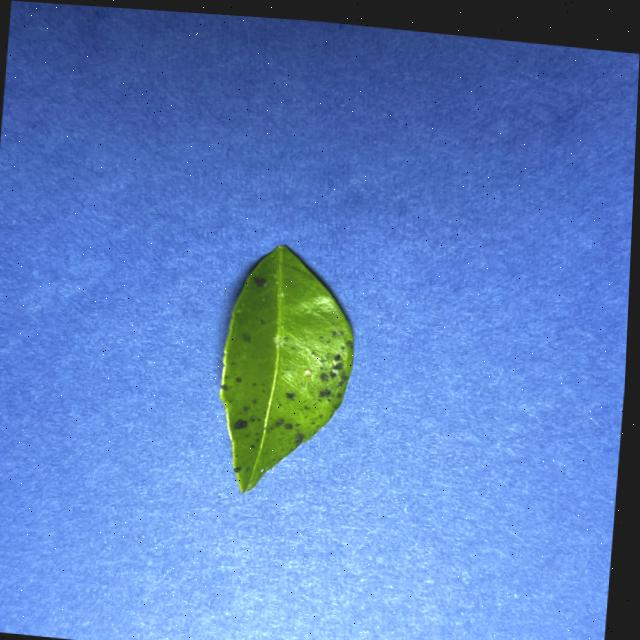sooty_mold: (220, 246, 353, 491)
